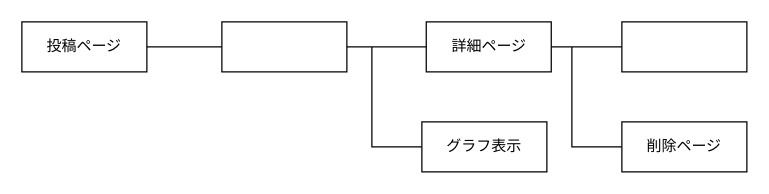
Some shapes in this 769 by 194 pixel diagram are drawn without their labels. Each missing label, with the box of its shape:
一覧ページ: (221, 21, 347, 72)
編集ページ: (621, 21, 747, 72)
